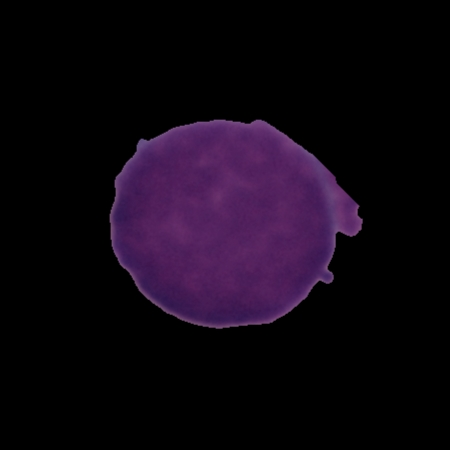HEM: (106, 114, 366, 333)
